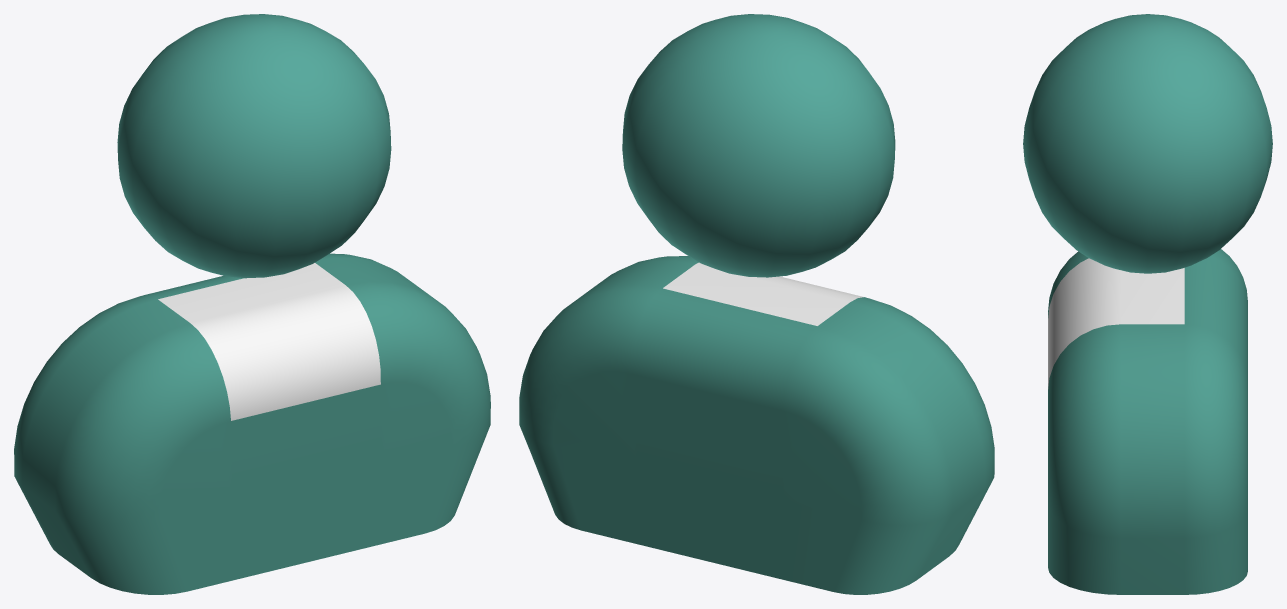
File: person.obj
The picture shows the model from 3 angles, left to right: view 1: azimuth 30°, elevation 25°; view 2: azimuth 150°, elevation 25°; view 3: azimuth 270°, elevation 25°; orthographic projection. The views are drawn at different scales.
Parts seen in each view (by area): view 1: Person_Icon_Tex; view 2: Person_Icon_Tex; view 3: Person_Icon_Tex.
Boxes of the visible parts, x1,y1,x2,y2 form: Person_Icon_Tex: [14, 14, 490, 594]; Person_Icon_Tex: [519, 14, 994, 594]; Person_Icon_Tex: [1023, 14, 1272, 594].
Size of the model in its own units: 0.7347 by 0.8216 by 0.3847.
